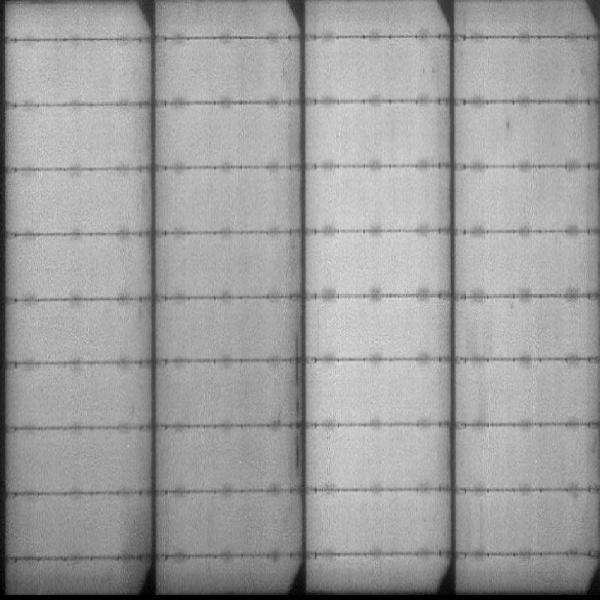scratch: (292, 326, 302, 476)
